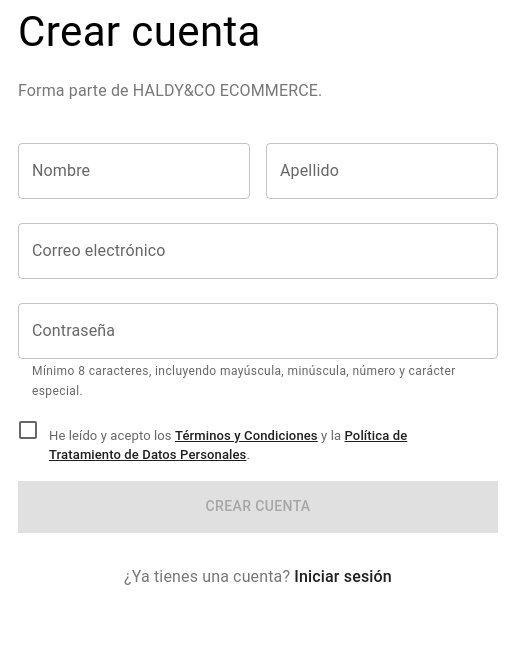
Test case: Register › shows a generic error when registration fails
Type "Ana" into the field labelled "Nombre" at (134, 171), box [18,143,250,199]
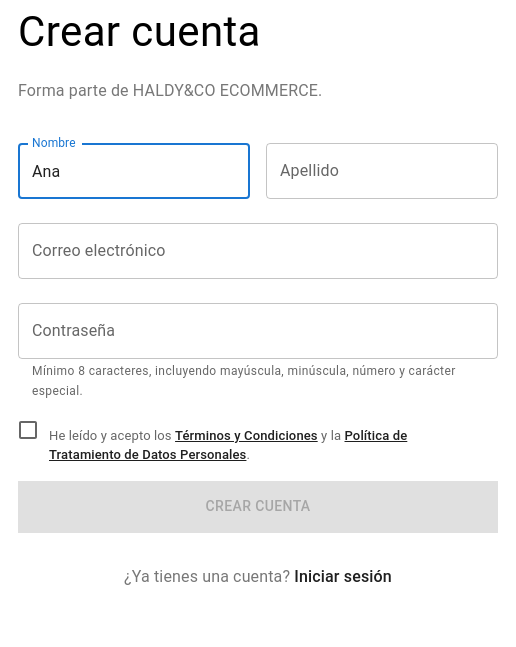
Type "Pérez" into the field labelled "Apellido" at (382, 171), box [266,143,498,199]
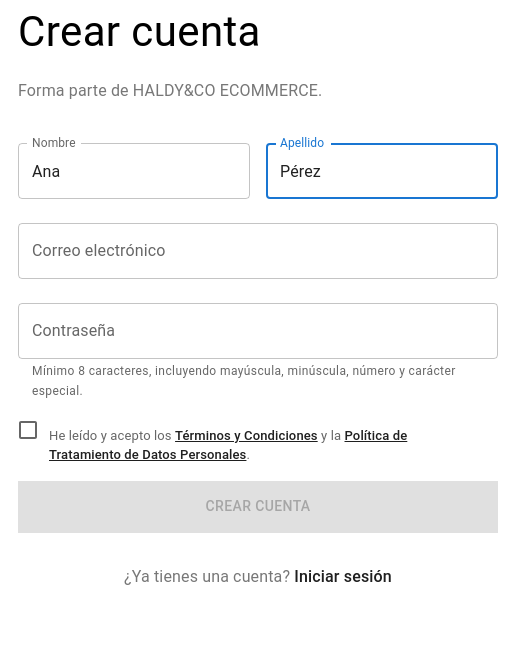
Type "ana@test.com" into the field labelled "Correo electrónico" at (258, 251), box [18,223,498,279]
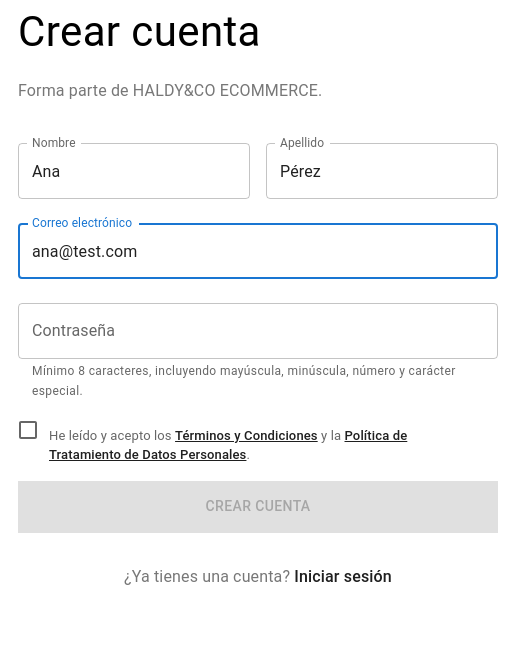
Type "Password123!" into the password field labelled "Contraseña" at (258, 331), box [18,303,498,359]
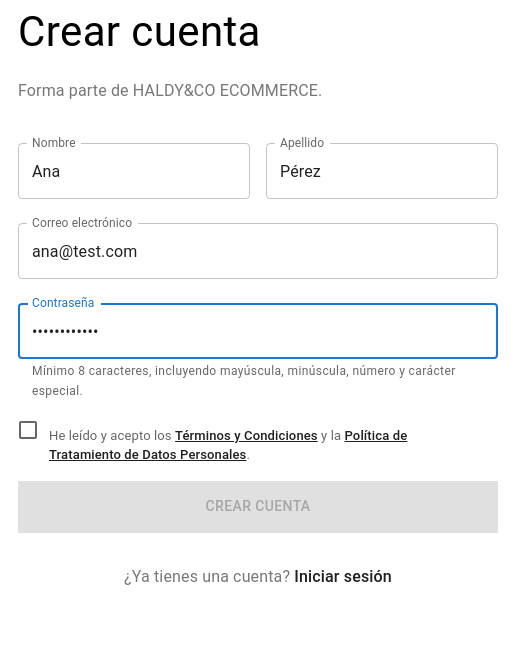
Click the checkbox at (212, 440), box [16,418,407,462]
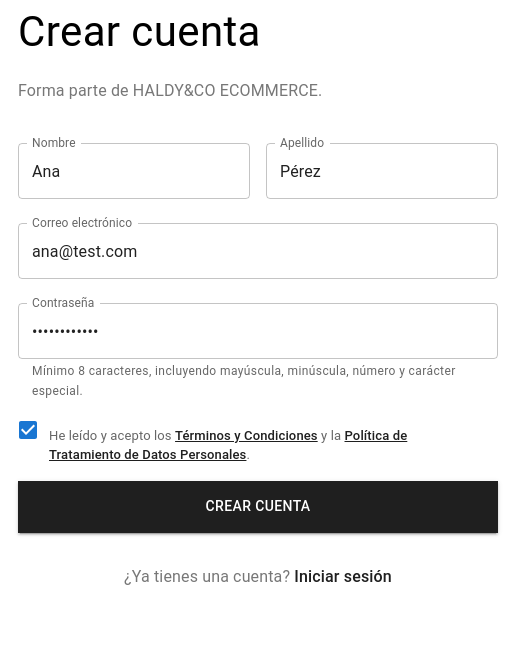
Click the button "Crear cuenta" at (258, 507), box [18,481,498,532]
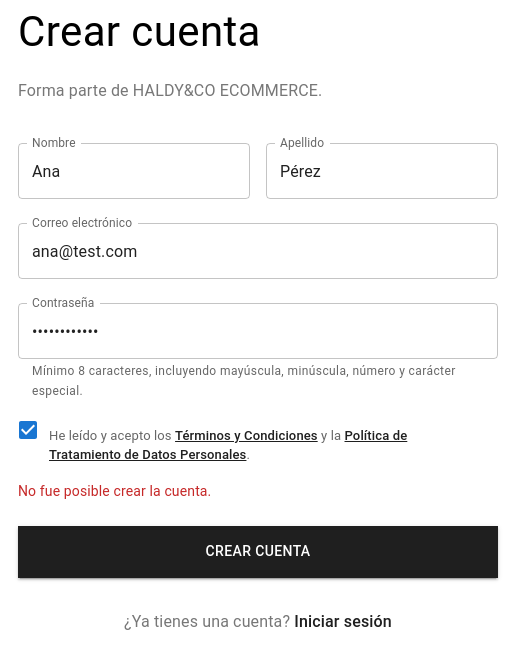
Expected: the text "No fue posible crear la cuenta." is shown, [18,483,211,499]
